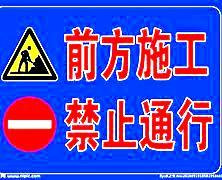sign: (1, 3, 220, 175)
